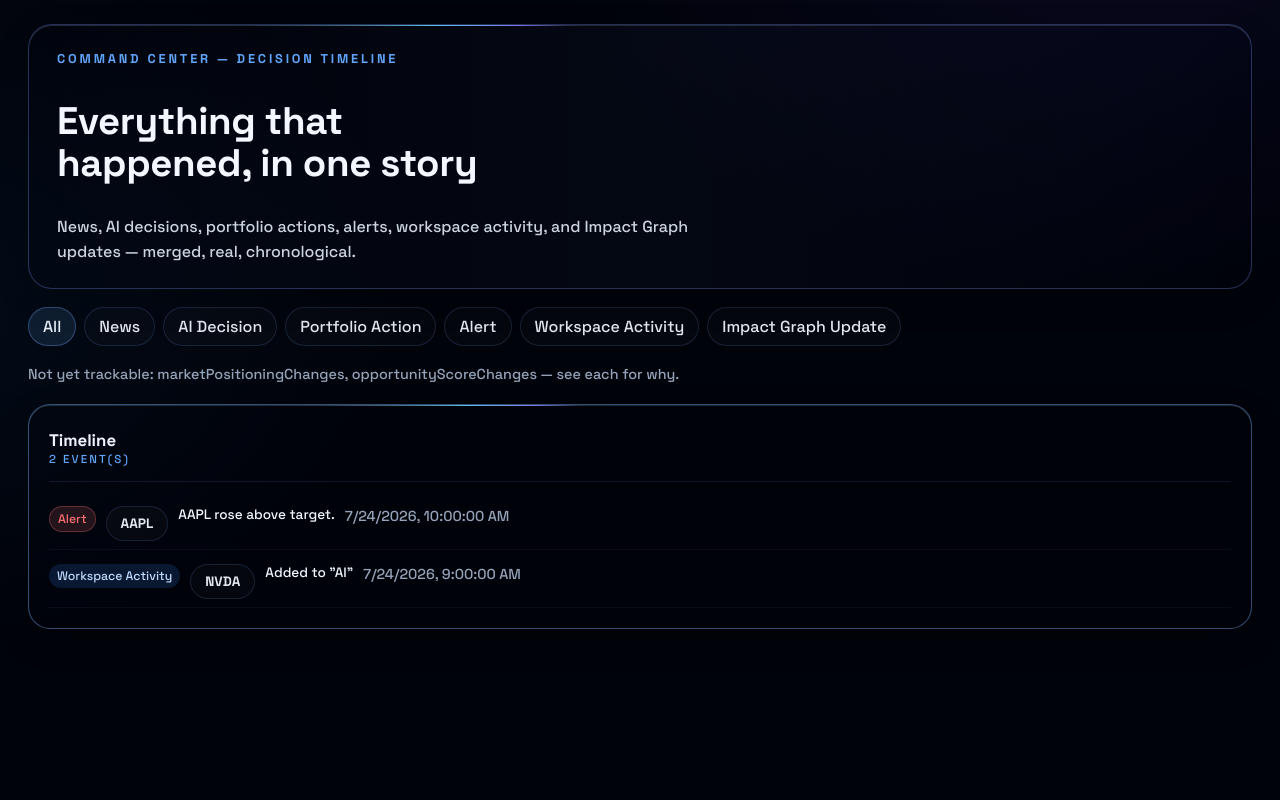
Test: DecisionTimelineScreen › filtering by type shows only matching events, client-side
Expected: the text "AAPL rose above target." is shown, x1=178 y1=506 x2=335 y2=523
Click the button "Alert": (478, 327) x1=444 y1=307 x2=512 y2=346
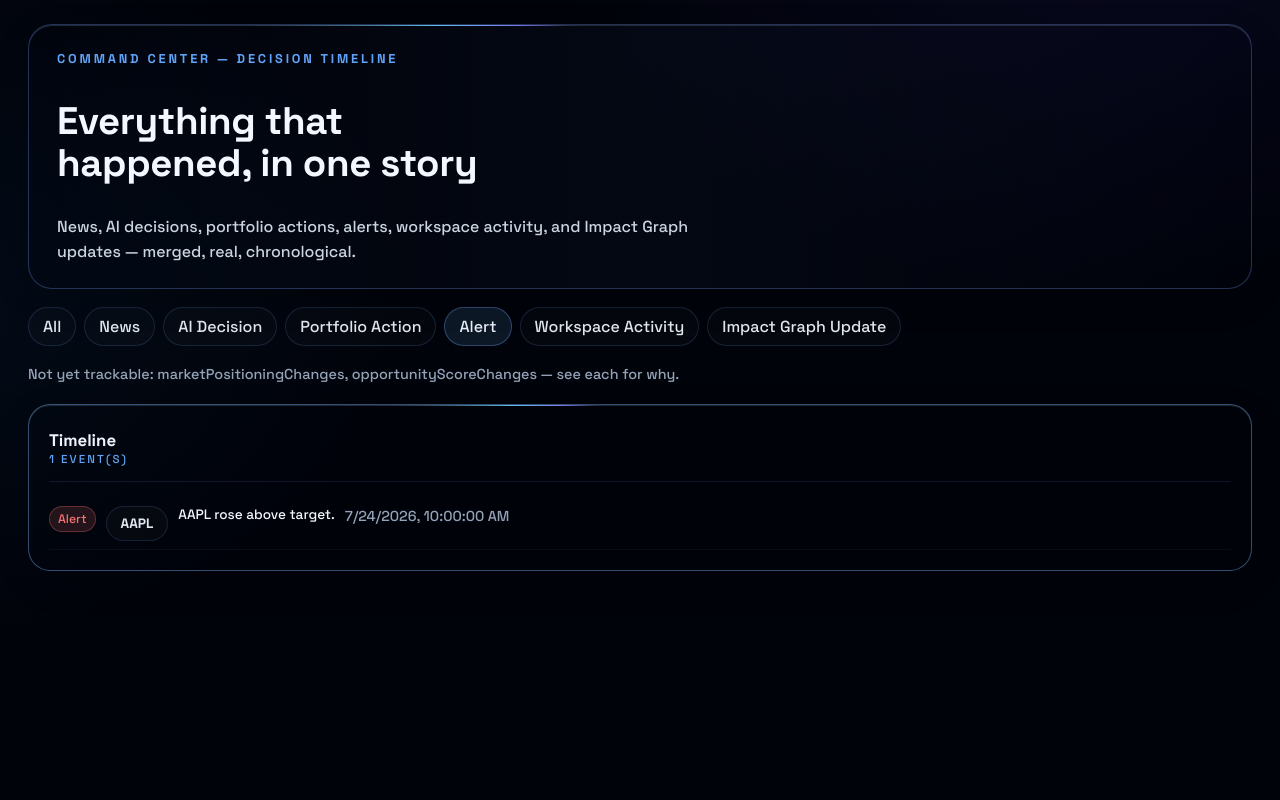
Expected: the text "AAPL rose above target." is shown, x1=178 y1=506 x2=335 y2=523
Expected: the text "Added to \"AI\"" is gone
